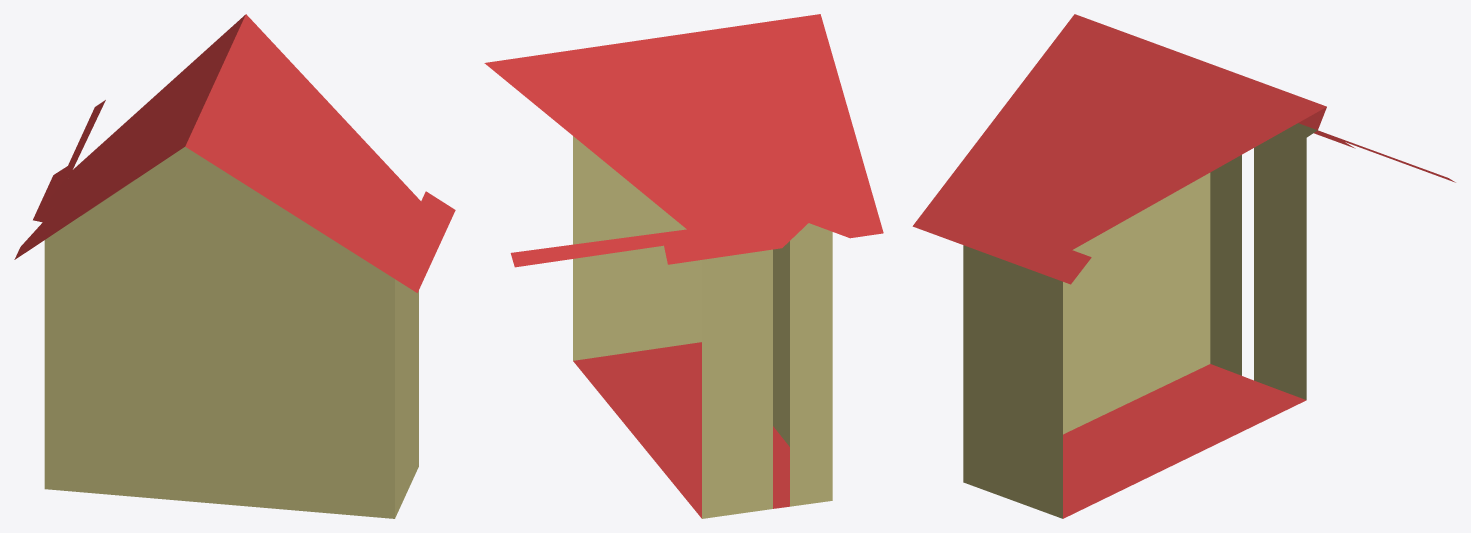
3 views of the same model, side by side, from view 1: azimuth 30°, elevation 25°; view 2: azimuth 150°, elevation 25°; view 3: azimuth 270°, elevation 25° (orthographic). The views are drawn at different scales.
Bounding box in the file's own units: 16.65 × 19.62 × 15.46.
